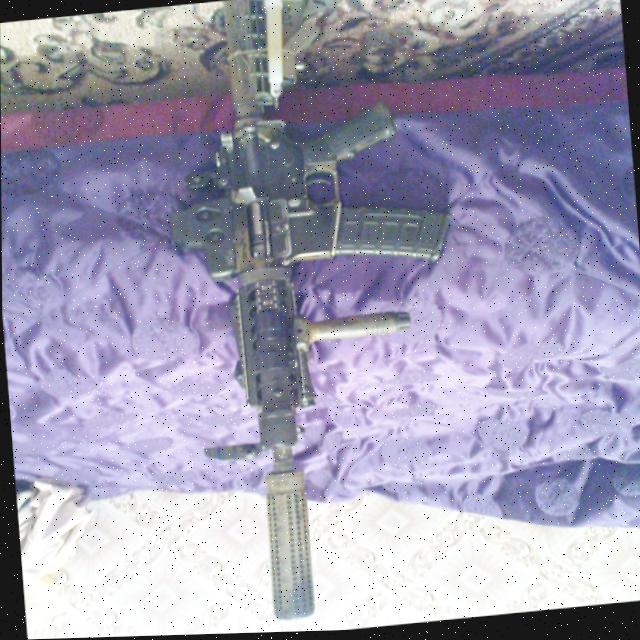firearm: (149, 0, 484, 633)
